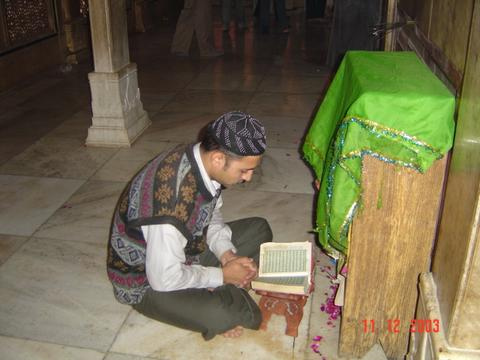person: (108, 111, 276, 337)
